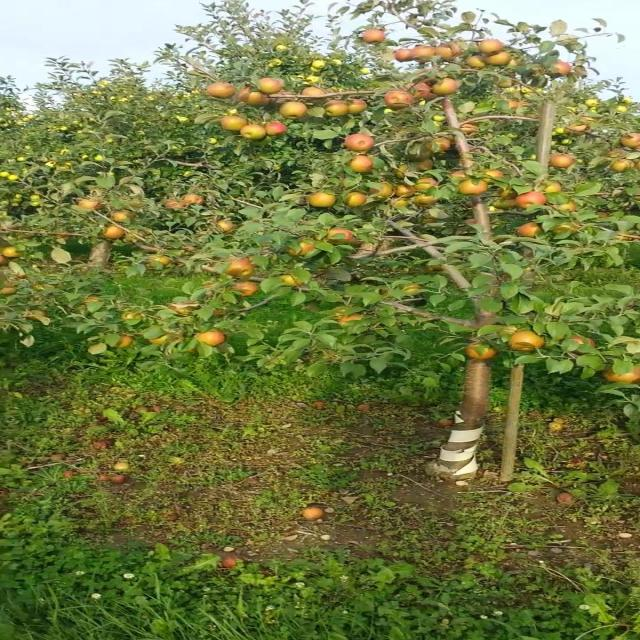apple: (511, 332, 548, 351), (604, 368, 638, 384), (241, 88, 270, 106), (518, 192, 548, 209), (227, 260, 256, 277), (326, 228, 356, 244), (468, 344, 498, 360), (461, 180, 491, 196), (383, 92, 412, 108), (348, 136, 377, 152), (220, 116, 249, 132), (433, 80, 462, 96), (234, 280, 261, 297), (205, 84, 235, 99), (348, 156, 375, 172), (198, 332, 228, 346), (412, 84, 437, 100), (312, 192, 336, 208), (241, 124, 265, 140), (284, 104, 308, 119), (326, 100, 348, 116), (348, 192, 370, 208), (412, 48, 434, 64), (440, 44, 462, 60), (348, 100, 370, 115), (362, 32, 388, 44), (518, 224, 542, 237), (170, 304, 196, 316), (490, 52, 512, 66), (262, 80, 284, 94), (369, 184, 391, 198), (269, 92, 297, 103), (554, 224, 581, 235), (291, 244, 315, 256), (483, 40, 505, 53), (554, 156, 576, 168), (419, 180, 441, 192), (575, 336, 597, 348), (412, 160, 434, 172), (355, 244, 379, 255), (340, 316, 363, 327), (404, 284, 425, 296), (127, 232, 148, 244), (468, 56, 487, 69), (305, 88, 327, 99), (568, 124, 590, 135), (497, 188, 519, 199), (106, 228, 126, 240), (611, 160, 631, 172), (554, 64, 574, 76), (163, 200, 187, 210), (497, 76, 517, 88), (77, 200, 100, 210), (269, 124, 288, 136), (433, 140, 452, 152), (397, 48, 412, 63), (419, 196, 439, 207), (113, 212, 133, 223), (284, 276, 304, 287), (618, 232, 639, 242), (461, 124, 480, 135), (220, 220, 236, 233), (148, 256, 171, 265), (497, 200, 517, 210), (540, 184, 562, 193), (184, 196, 206, 205), (28, 312, 50, 321), (120, 312, 142, 321), (148, 336, 171, 344), (120, 336, 135, 348), (419, 160, 434, 172), (511, 100, 530, 109), (390, 200, 411, 208), (6, 248, 21, 259), (362, 244, 380, 253), (625, 136, 638, 148), (397, 168, 411, 179), (212, 308, 228, 317), (84, 296, 100, 305), (397, 188, 414, 196), (561, 204, 578, 212), (461, 160, 476, 169), (490, 172, 505, 180), (454, 172, 469, 179), (184, 248, 199, 255), (433, 116, 450, 122), (141, 248, 158, 254), (6, 288, 18, 296), (56, 236, 71, 242), (611, 152, 624, 158), (6, 280, 16, 287), (468, 220, 480, 225)
